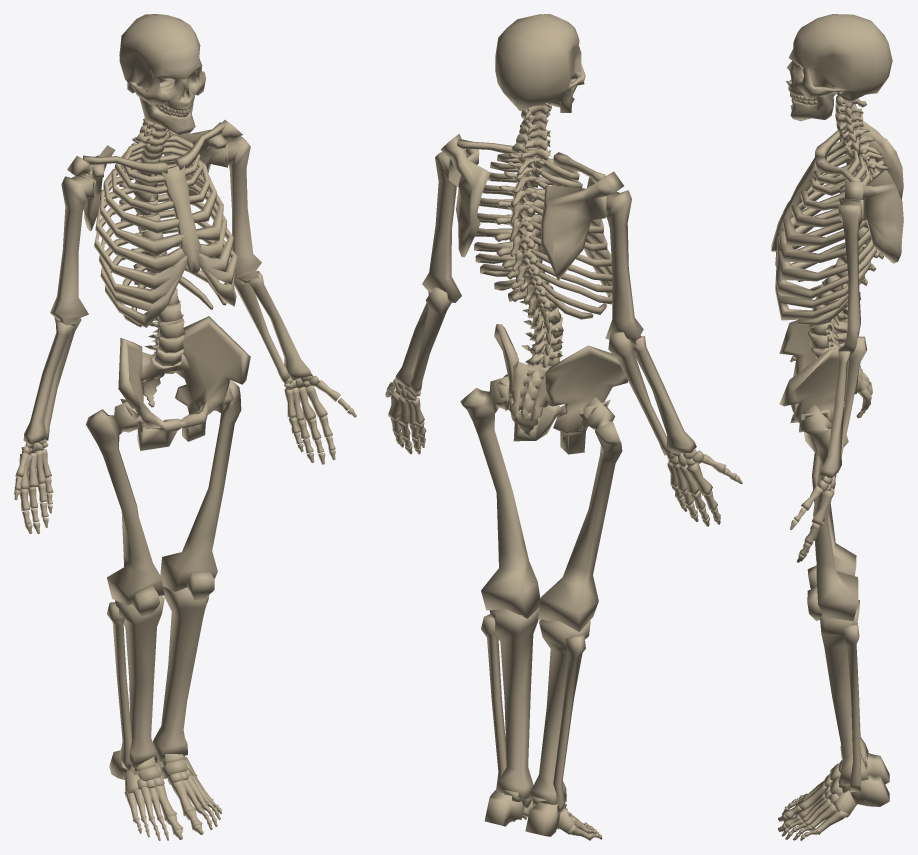
The model's file is creature-skeleton.glb.
3 renders of one model, left to right at view 1: azimuth 30°, elevation 25°; view 2: azimuth 150°, elevation 25°; view 3: azimuth 270°, elevation 25°, orthographic. The views are drawn at different scales.
Parts seen in each view (by area): view 1: creature-skeleton; view 2: creature-skeleton; view 3: creature-skeleton.
Boxes of the visible parts, x1,y1,x2,y2 form: creature-skeleton: (14, 14, 356, 840); creature-skeleton: (385, 14, 742, 840); creature-skeleton: (771, 14, 903, 840).
Bounding box in the file's own units: 0.7179 × 1.6 × 0.2373.
Materials: 1 (1 with a texture image).
